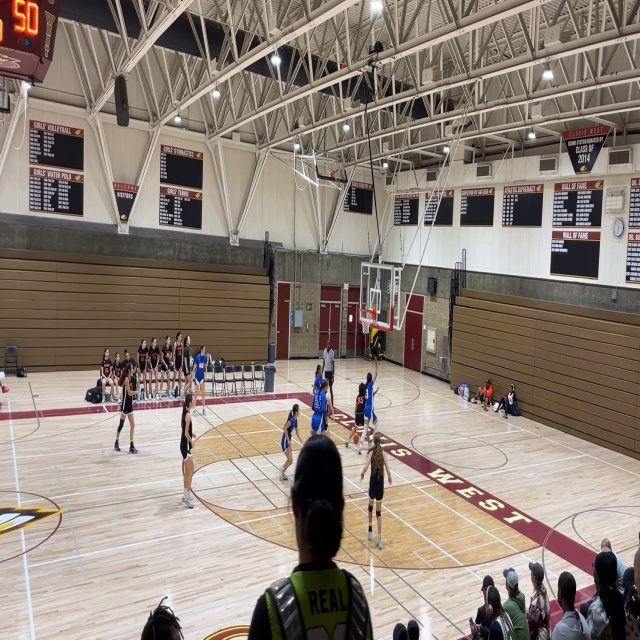Basketball: (351, 432, 360, 443)
